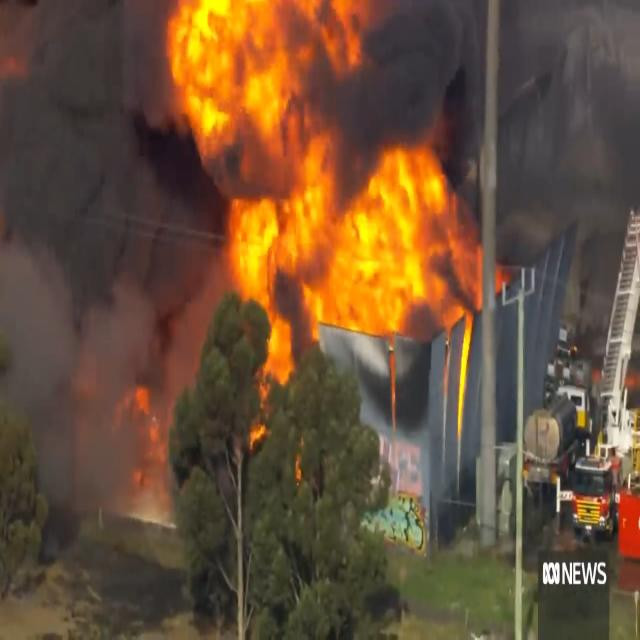fire: (166, 3, 455, 414)
